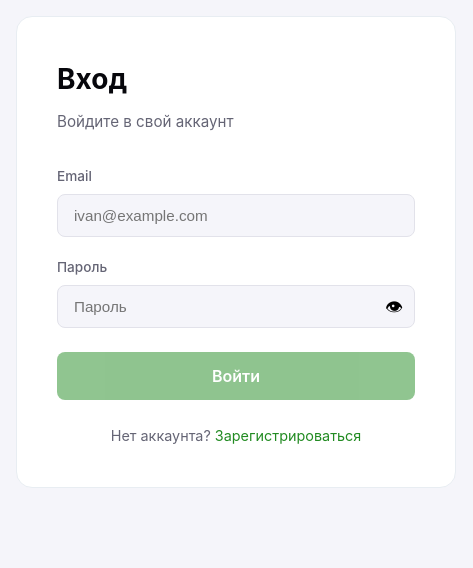
Test case: LoginView › shows error on failed login
Type "test@test.com" into the field with id "email" at (236, 216), box [57, 194, 415, 237]
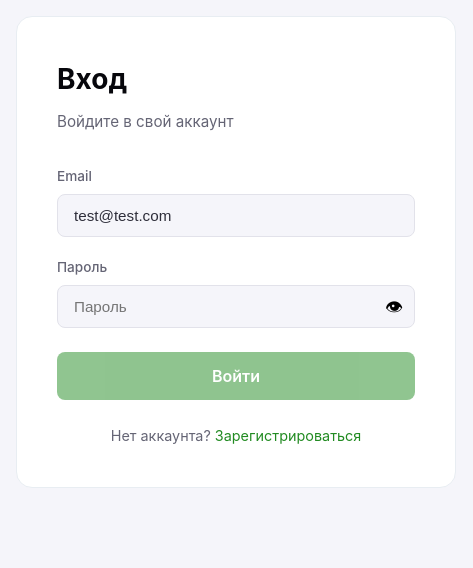
Type "wrong" into the password field with placeholder "Пароль" at (236, 307), box [57, 285, 415, 328]
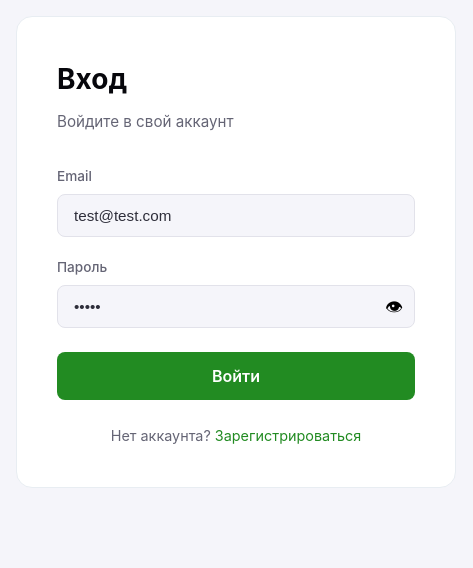
Submit the form, box [57, 166, 415, 400]
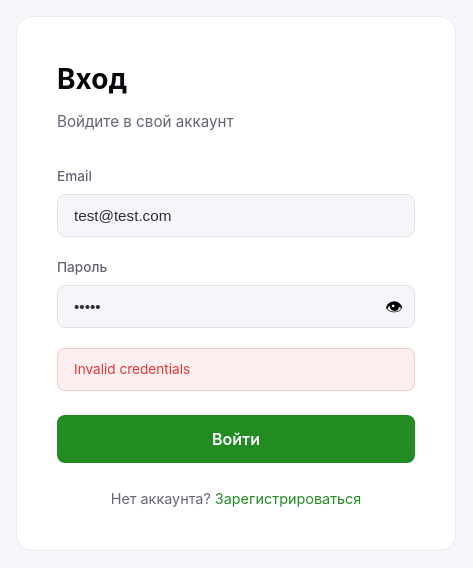
expect the text with class "form-error" reads "Invalid credentials": met, box [74, 361, 190, 377]
